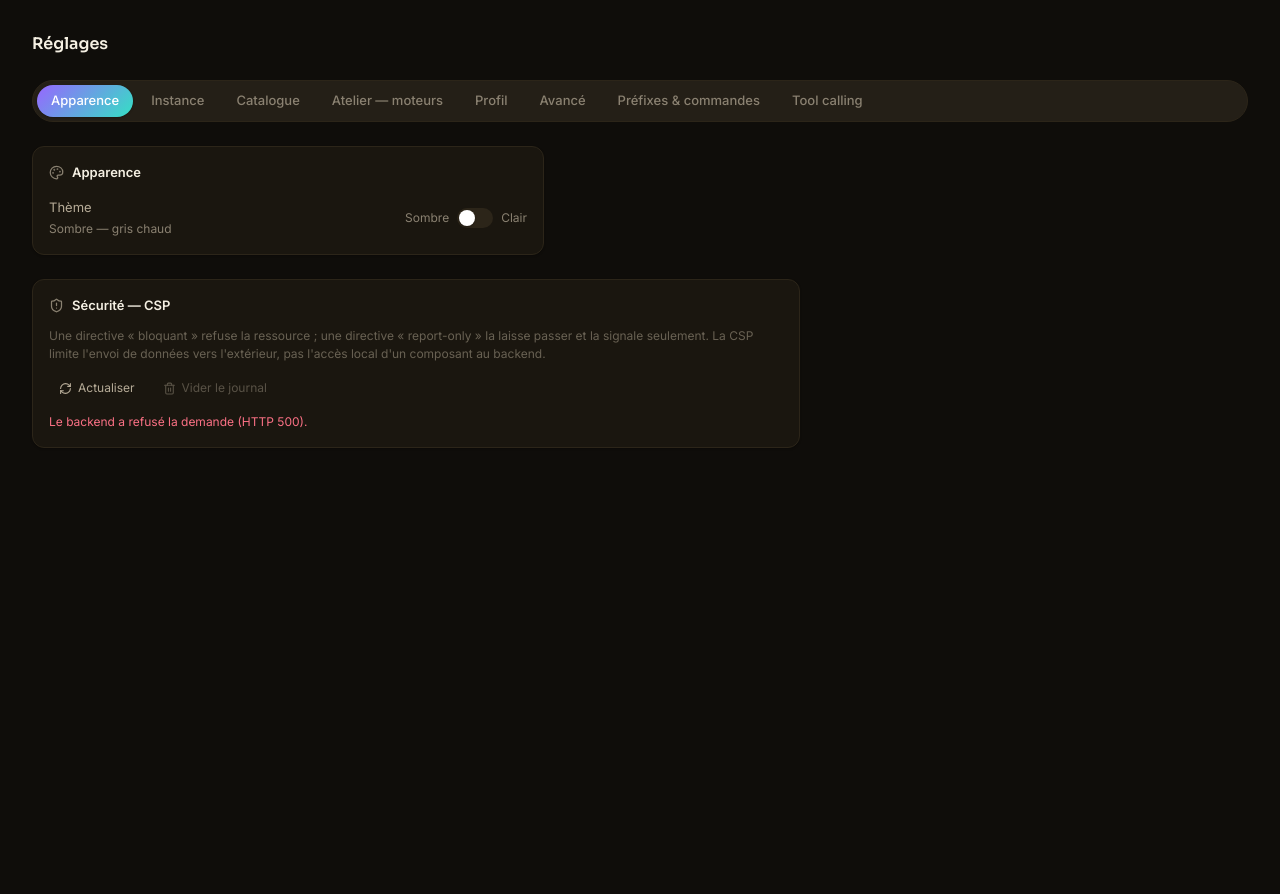
Réglages — Tool calling › un skill personnalisé agentique apparaît dans la grille, un NON agentique n'y apparaît pas
Click the button "Tool calling" at (827, 101), box 778,85 -> 877,116
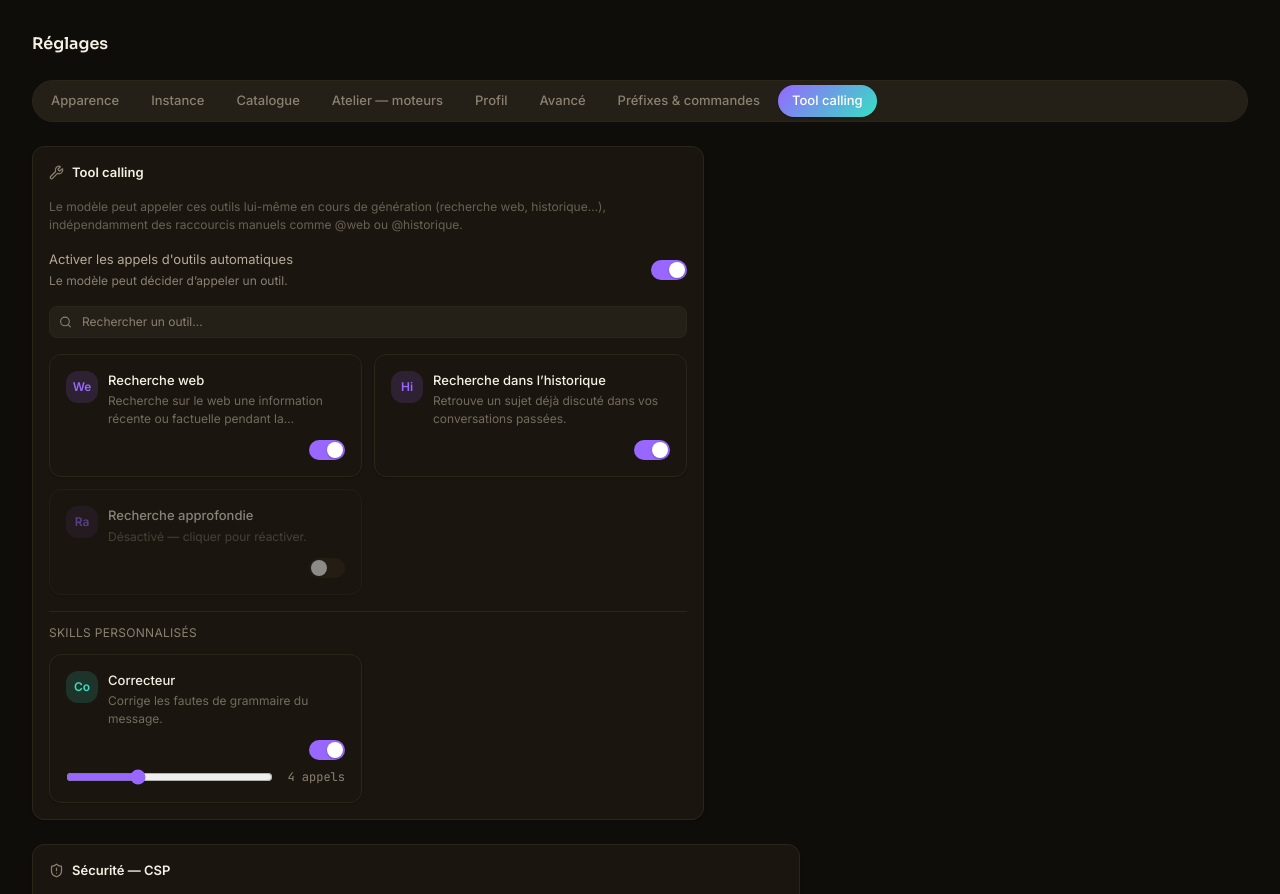
Expected: the text "Correcteur" is shown, 108,672 -> 175,688
